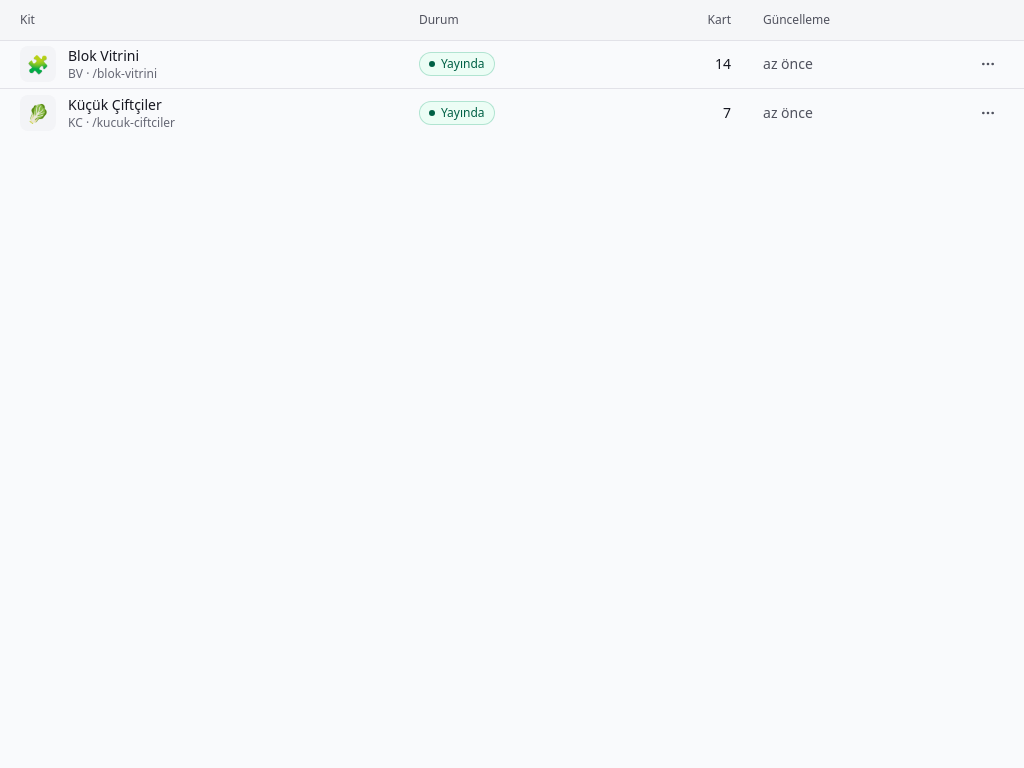
Test: KitsTable › keeps a kit when archiving is cancelled
The width and height of the screenshot is (1024, 768).
Click the button named "Blok Vitrini için işlemler" at (988, 64), box [972,48,1004,80]
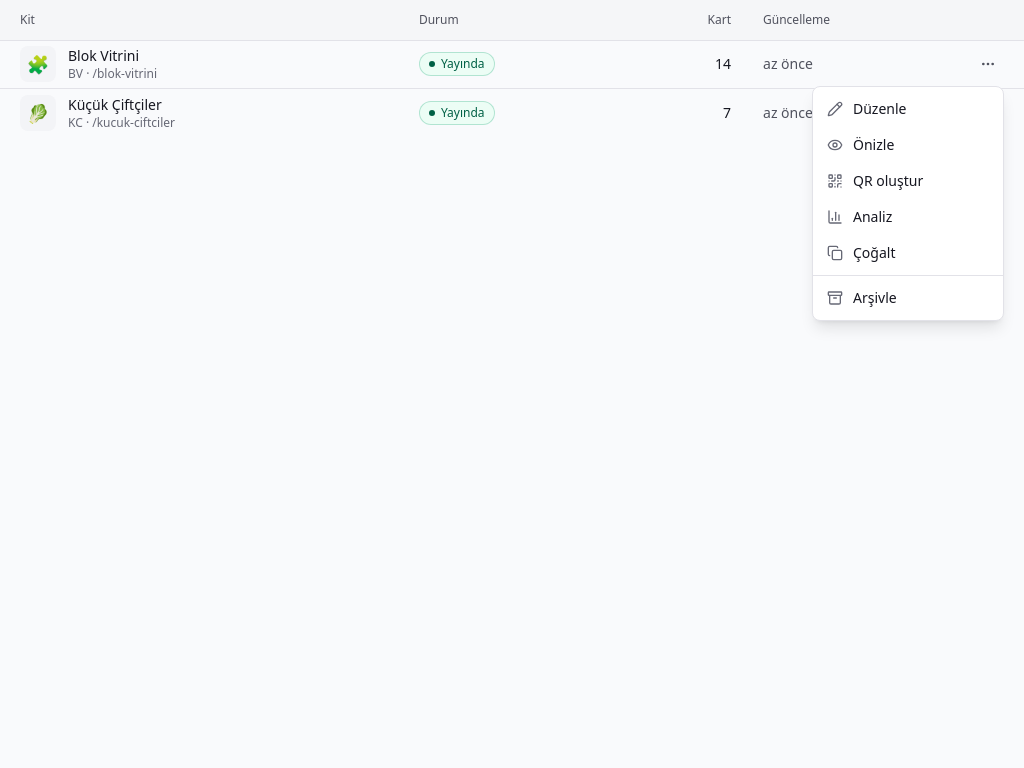
Click the menu item "Arşivle" at (862, 298), box [827,288,897,307]
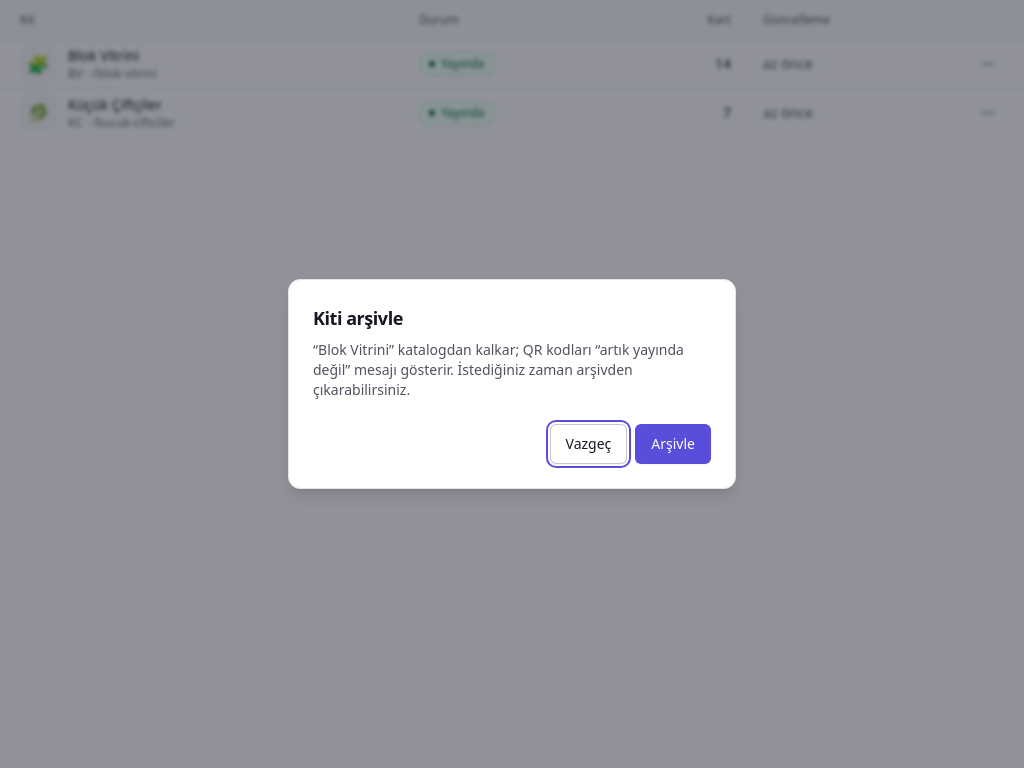
Click the button "Vazgeç" at (588, 444), box [550,424,627,464]
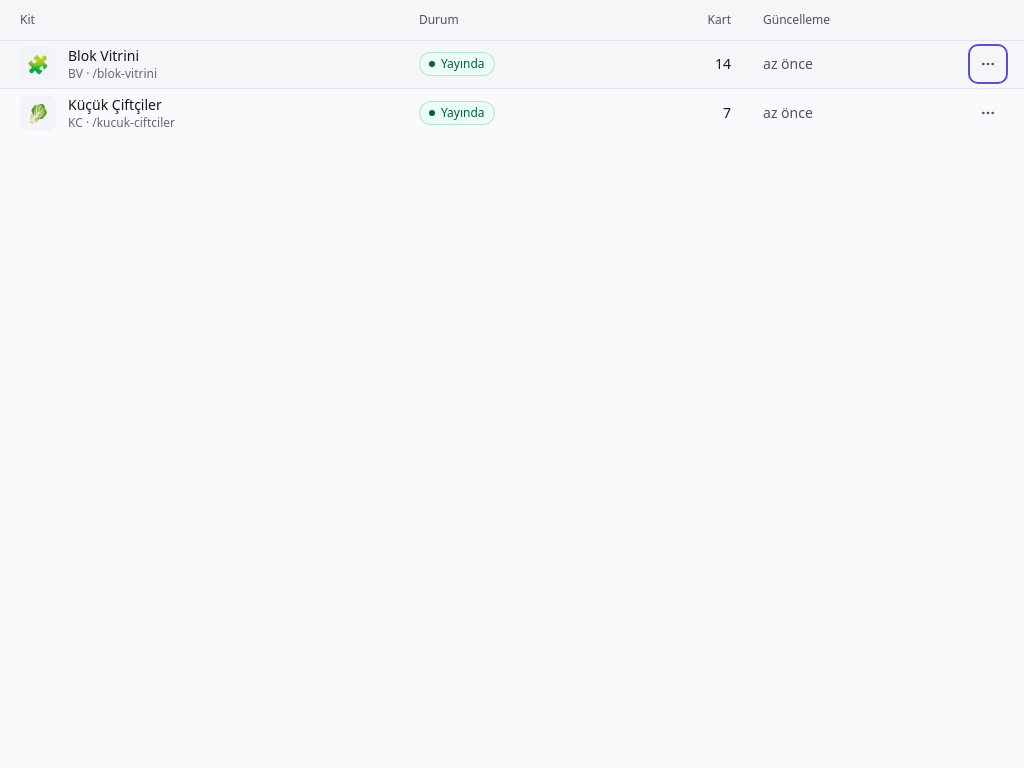
Check: the dialog is gone
